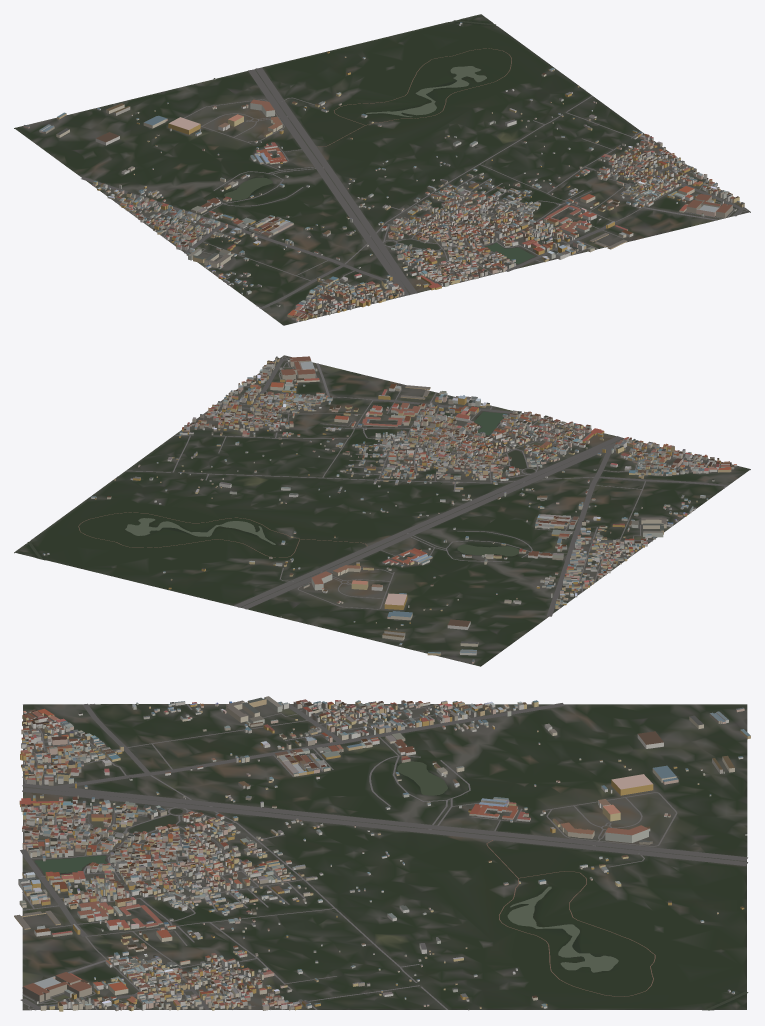
3 views of the same model, one above another, from view 1: azimuth 30°, elevation 25°; view 2: azimuth 150°, elevation 25°; view 3: azimuth 270°, elevation 25° (orthographic). The views are drawn at different scales.
Visible parts, largest first — view 1: ground, buildings, roads, water; view 2: ground, buildings, roads, water; view 3: ground, buildings, roads, water.
Boxes of the visible parts, <box> form: ground: <box>14,14,750,325</box>; buildings: <box>23,22,744,322</box>; roads: <box>81,48,747,325</box>; water: <box>224,20,534,264</box>; ground: <box>14,355,750,666</box>; buildings: <box>42,356,736,663</box>; roads: <box>78,357,750,616</box>; water: <box>27,411,534,559</box>; ground: <box>22,704,747,1010</box>; buildings: <box>14,696,750,1011</box>; roads: <box>20,703,747,1010</box>; water: <box>34,761,748,1010</box>.
Bounding box in the file's own units: 1419 × 21.37 × 1426.
